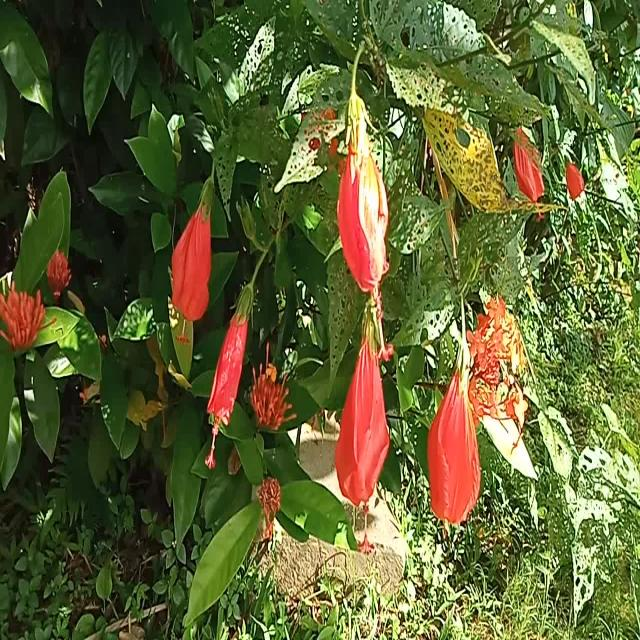Flower: (331, 306, 391, 556), (425, 334, 485, 542), (336, 91, 394, 301), (209, 281, 252, 470), (170, 175, 212, 349)
